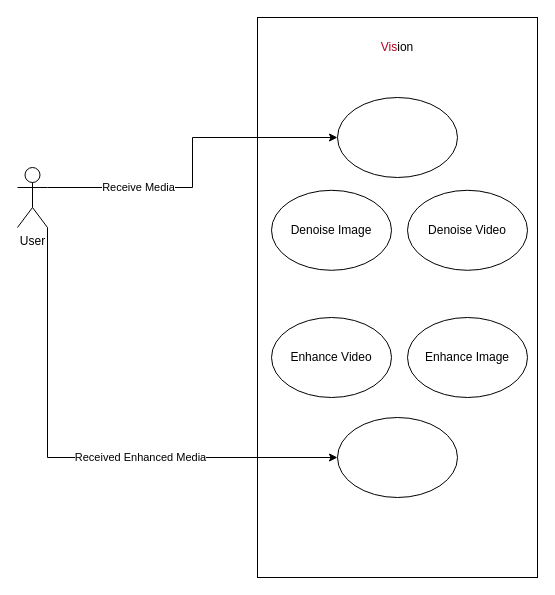
The diagram is 555 pixels wide and 595 high, and some of its shapes have lost their labels. Each missing label, with the centre of its shape:
Download Media: point 397,457
Upload Media: point 397,137
